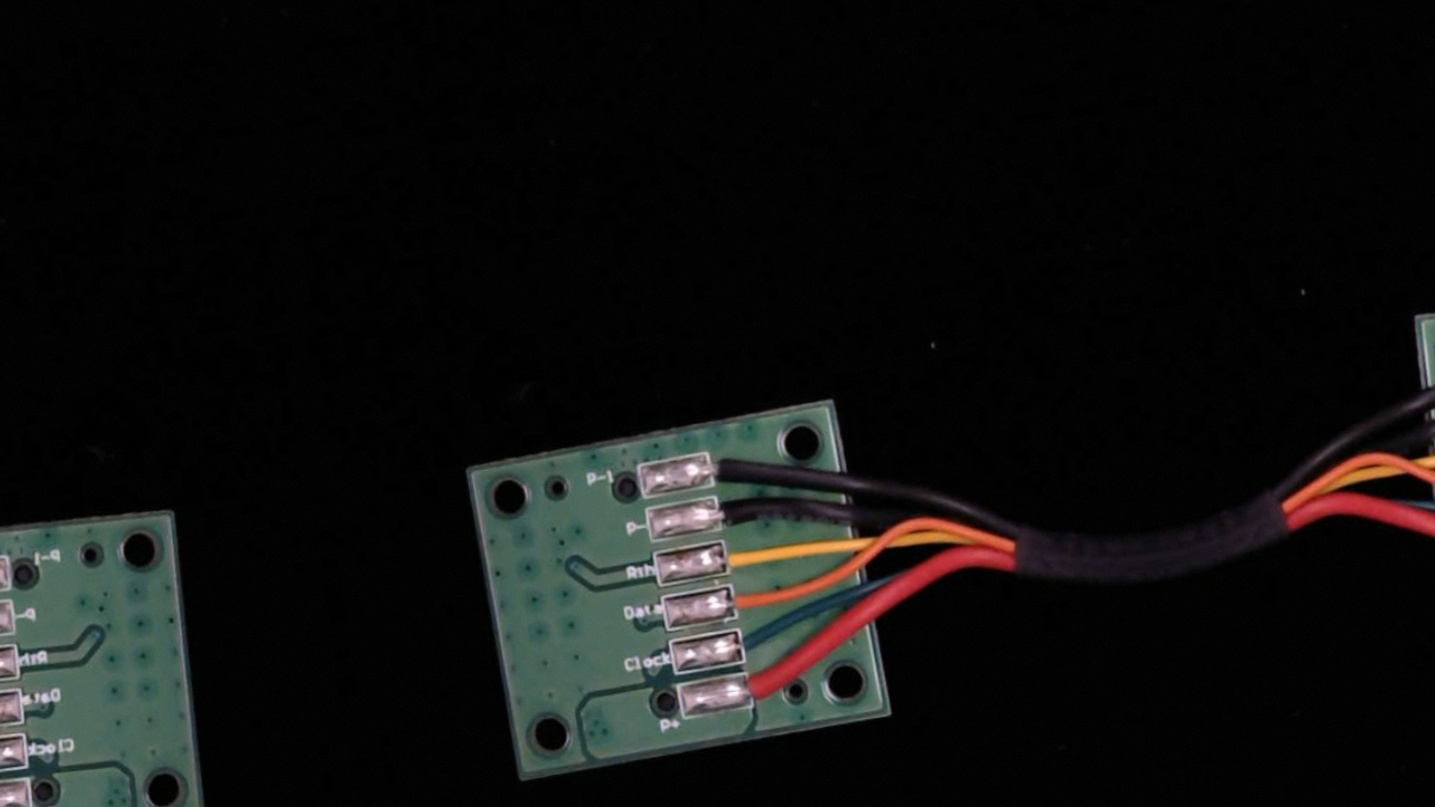Black: (696, 490, 774, 533)
Black1: (688, 445, 761, 488)
Green: (717, 624, 795, 668)
Orange: (710, 582, 787, 623)
Red: (725, 661, 809, 711)
Yellow: (703, 533, 779, 578)
